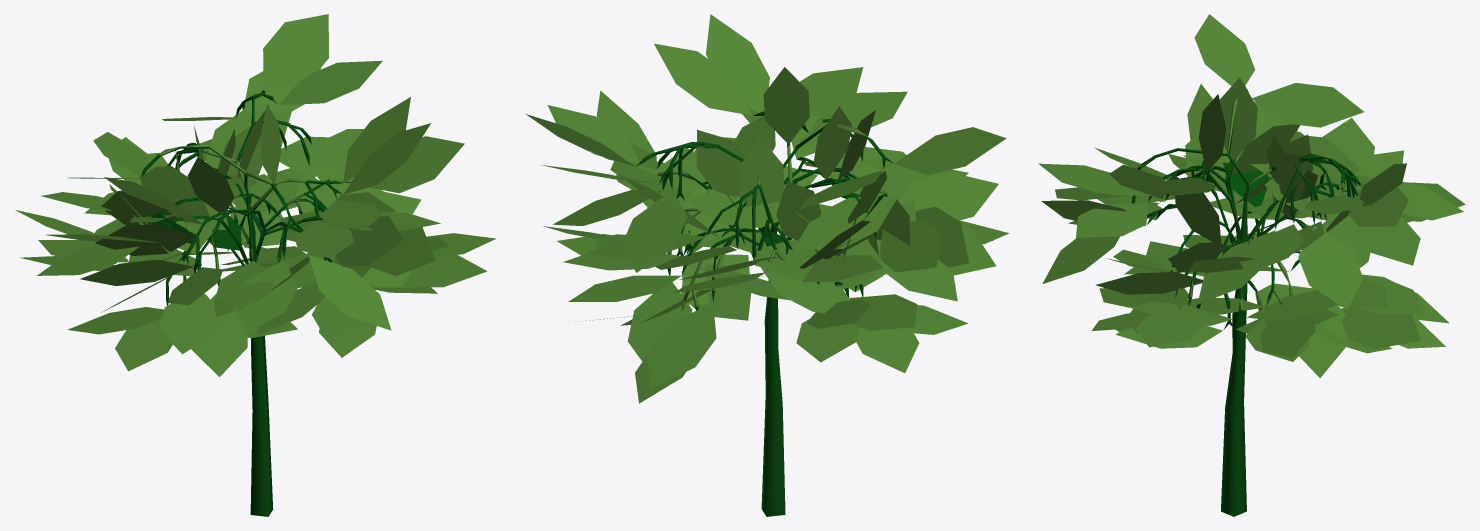
File: tree5.fbx
3 views of the same model, side by side, from view 1: azimuth 30°, elevation 25°; view 2: azimuth 150°, elevation 25°; view 3: azimuth 270°, elevation 25° (orthographic). The views are drawn at different scales.
Parts seen in each view (by area): view 1: tree5; view 2: tree5; view 3: tree5.
Part boxes in pixels (bbox=[...]): tree5: bbox=[15, 14, 495, 516]; tree5: bbox=[526, 14, 1009, 516]; tree5: bbox=[1038, 14, 1465, 516].
Size of the model in its own units: 4128 by 4087 by 3804.
